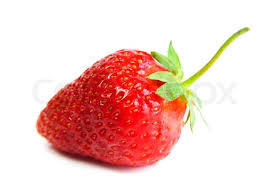strawberry: (35, 47, 202, 173)
